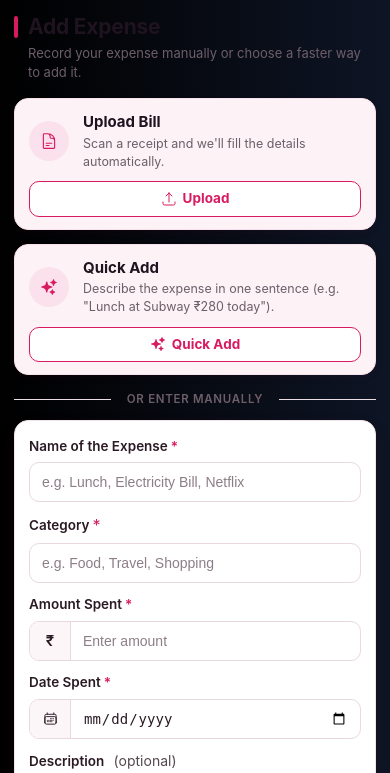
Scenario: AddExpense -- abstained ML predictions shown as a suggestion (ML-003-T04) › does NOT auto-fill the category when the prediction is abstained, and shows a suggestion instead
Type "Some New Merchant" into the field labelled "Name of the Expense*" at (195,482), box x1=29 y1=462 x2=361 y2=502
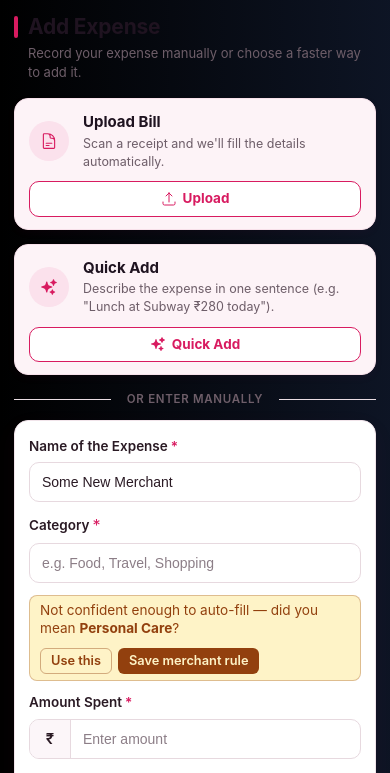
Expected: the field labelled "Category" is empty, x1=29 y1=544 x2=361 y2=584
Result: the text "did you mean" is shown at x1=40 y1=602 x2=318 y2=636
Result: the text "Personal Care" is shown at x1=80 y1=620 x2=172 y2=636
